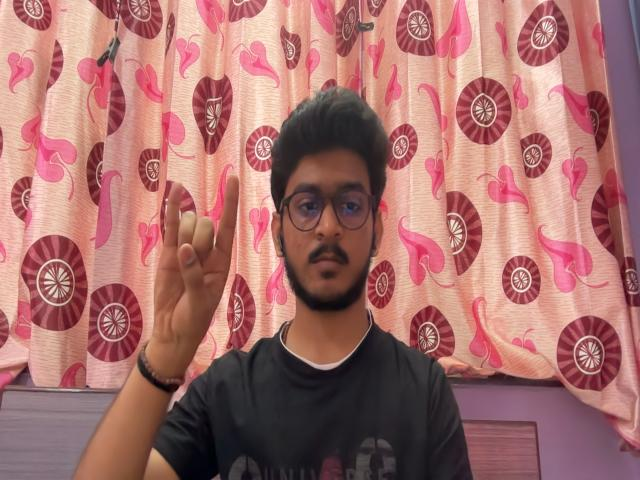I Love You: (146, 169, 252, 355)
